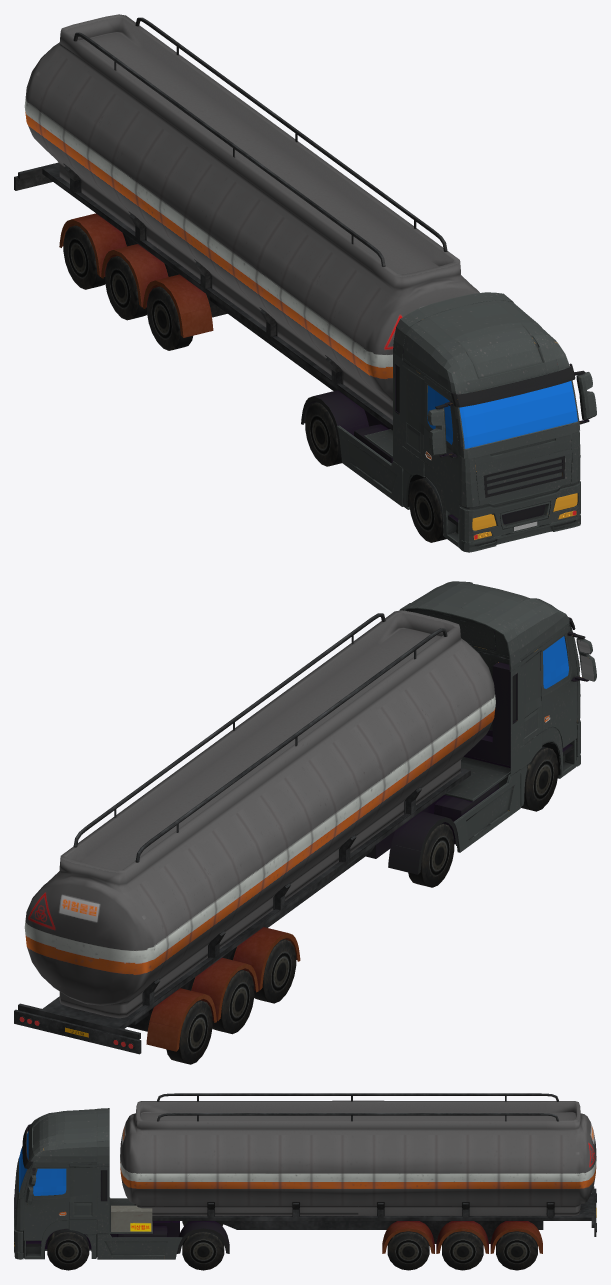
File: V_truck.fbx
The picture shows the model from 3 angles, top to bottom: view 1: azimuth 30°, elevation 25°; view 2: azimuth 150°, elevation 25°; view 3: azimuth 270°, elevation 25°; orthographic projection. The views are drawn at different scales.
Parts seen in each view (by area): view 1: Trailer, Truck, polySurface6, TruckDoorR1, WheelC, WheelA, WheelE, WheelD, WheelB, TruckDoorL1; view 2: Trailer, Truck, TruckDoorR1, WheelB, WheelE, WheelA, WheelC, WheelD, polySurface7; view 3: Trailer, Truck, TruckDoorL1, WheelA, WheelB, WheelC, WheelD, WheelE, polySurface5, ChemBox2, polySurface6.
Part boxes in pixels (x1=…): Trailer: x1=14, y1=14, x2=479, y2=430; Truck: x1=301, y1=292, x2=580, y2=552; polySurface6: x1=459, y1=381, x2=577, y2=448; TruckDoorR1: x1=424, y1=376, x2=461, y2=519; WheelC: x1=147, y1=286, x2=192, y2=350; WheelA: x1=409, y1=477, x2=446, y2=542; WheelE: x1=63, y1=225, x2=105, y2=289; WheelD: x1=105, y1=256, x2=147, y2=320; WheelB: x1=305, y1=402, x2=341, y2=466; TruckDoorL1: x1=574, y1=370, x2=596, y2=424; Trailer: x1=14, y1=610, x2=495, y2=1054; Truck: x1=366, y1=581, x2=580, y2=874; TruckDoorR1: x1=540, y1=625, x2=596, y2=747; WheelB: x1=408, y1=823, x2=454, y2=887; WheelE: x1=166, y1=1000, x2=212, y2=1064; WheelA: x1=520, y1=746, x2=558, y2=811; WheelC: x1=254, y1=939, x2=296, y2=1003; WheelD: x1=212, y1=969, x2=254, y2=1034; polySurface7: x1=543, y1=636, x2=568, y2=688; Trailer: x1=120, y1=1093, x2=596, y2=1253; Truck: x1=14, y1=1108, x2=229, y2=1259; TruckDoorL1: x1=23, y1=1164, x2=69, y2=1240; WheelA: x1=47, y1=1229, x2=89, y2=1270; WheelB: x1=182, y1=1221, x2=224, y2=1270; WheelC: x1=387, y1=1231, x2=429, y2=1270; WheelD: x1=442, y1=1231, x2=483, y2=1270; WheelE: x1=496, y1=1231, x2=537, y2=1270; polySurface5: x1=33, y1=1168, x2=66, y2=1195; ChemBox2: x1=111, y1=1211, x2=152, y2=1231; polySurface6: x1=19, y1=1131, x2=28, y2=1192.
Bounding box in the file's own units: 299 × 397 × 1410.
Materials: 6 (5 with a texture image).
